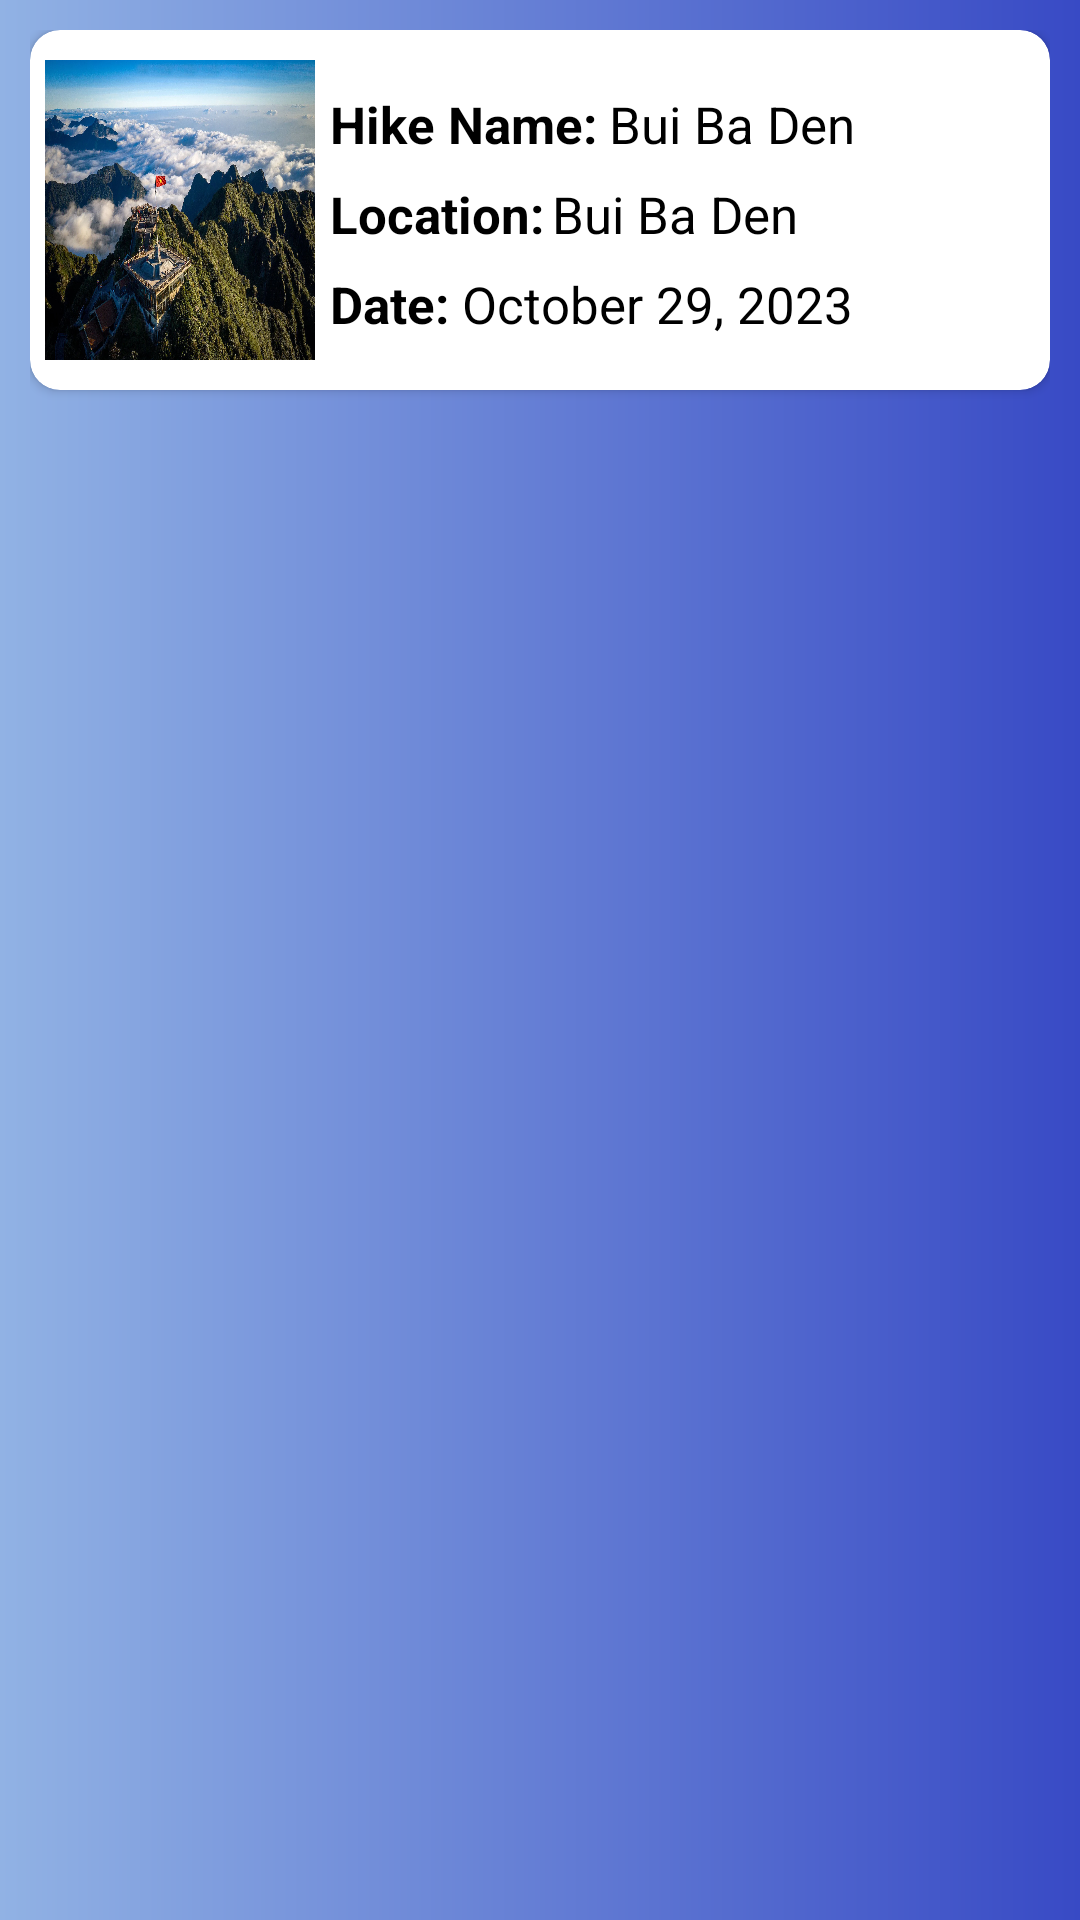

Named icons in this screenshot (1080*1920) and their centers, (x,y):
fansipan: (180,210)
